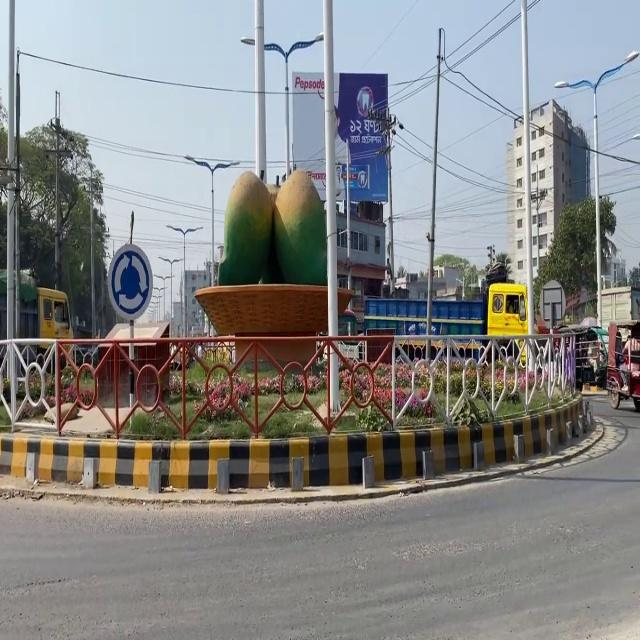Construction-barrier: (0, 393, 594, 493)
Light-pole: (322, 0, 340, 420), (518, 0, 537, 369), (425, 28, 442, 360), (253, 0, 266, 183)
Rickshaw: (107, 243, 152, 320)
Traffic-cone: (360, 263, 550, 366), (0, 267, 74, 375), (481, 263, 552, 363), (605, 320, 639, 411)
